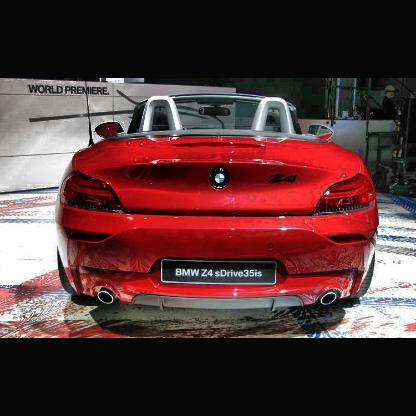BMW Z4 Convertible 2012: (54, 91, 381, 320)
